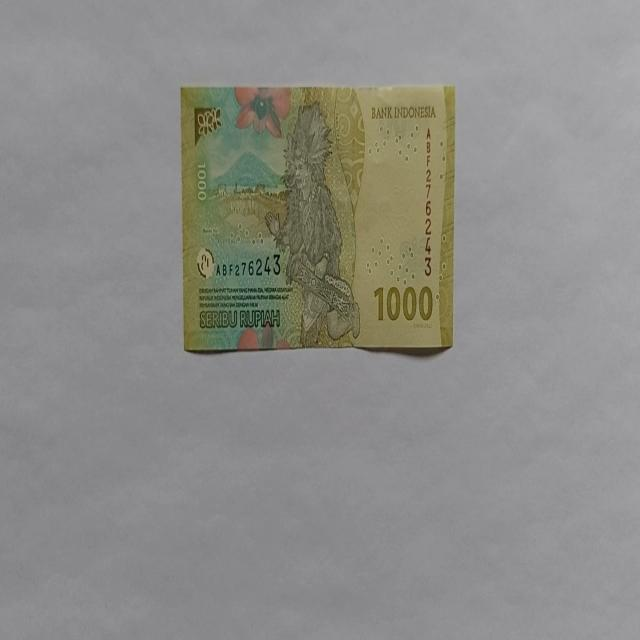seribu rupiah kertas: (180, 82, 456, 354)
